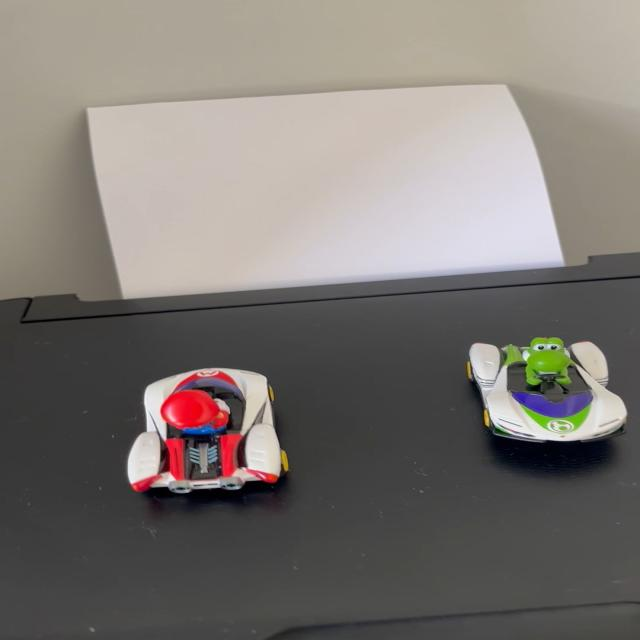mario: (112, 357, 301, 507)
yoshi: (451, 322, 638, 453)
